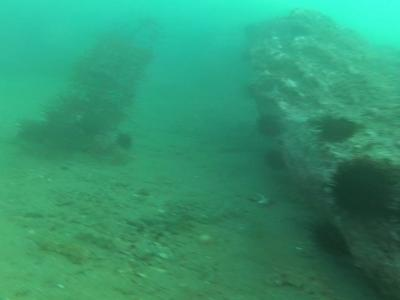urchin: (331, 155, 393, 220), (308, 220, 350, 258), (318, 117, 356, 144), (117, 134, 130, 148)
